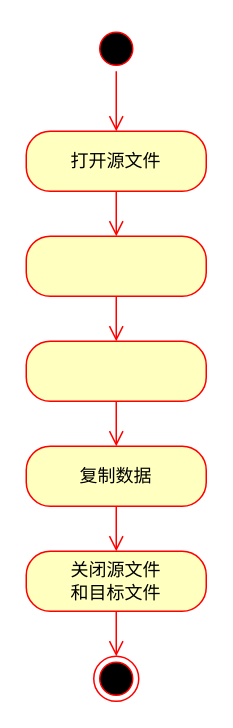
This 233x728 diagram has some shape labels left out. Here are the shapes that lost their labels. From the top down, the centre of each, then its label:
the point at 115,265: 检查目标文件 是否存在
the point at 115,370: 创建目标文件
